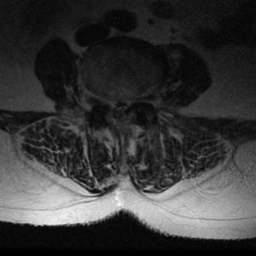CCS_severe_stenosis: (117, 100, 124, 127)
LFS_stenosis: (131, 90, 138, 110)
LLS_severe_stenosis: (124, 99, 130, 117)
RFS_stenosis: (103, 91, 111, 111)
RLS_severe_stenosis: (110, 100, 117, 121)
